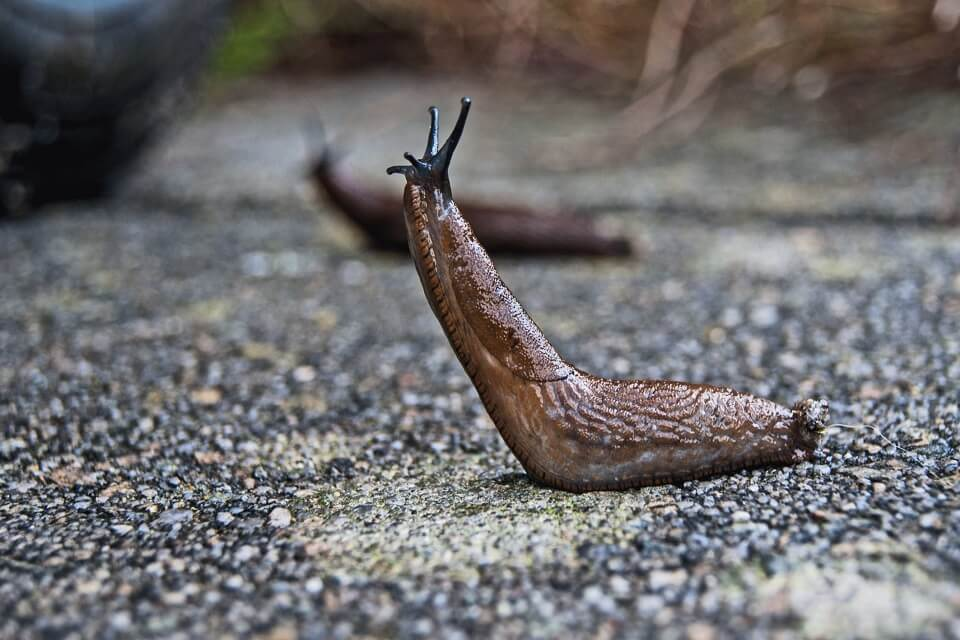slug: (395, 99, 827, 479)
